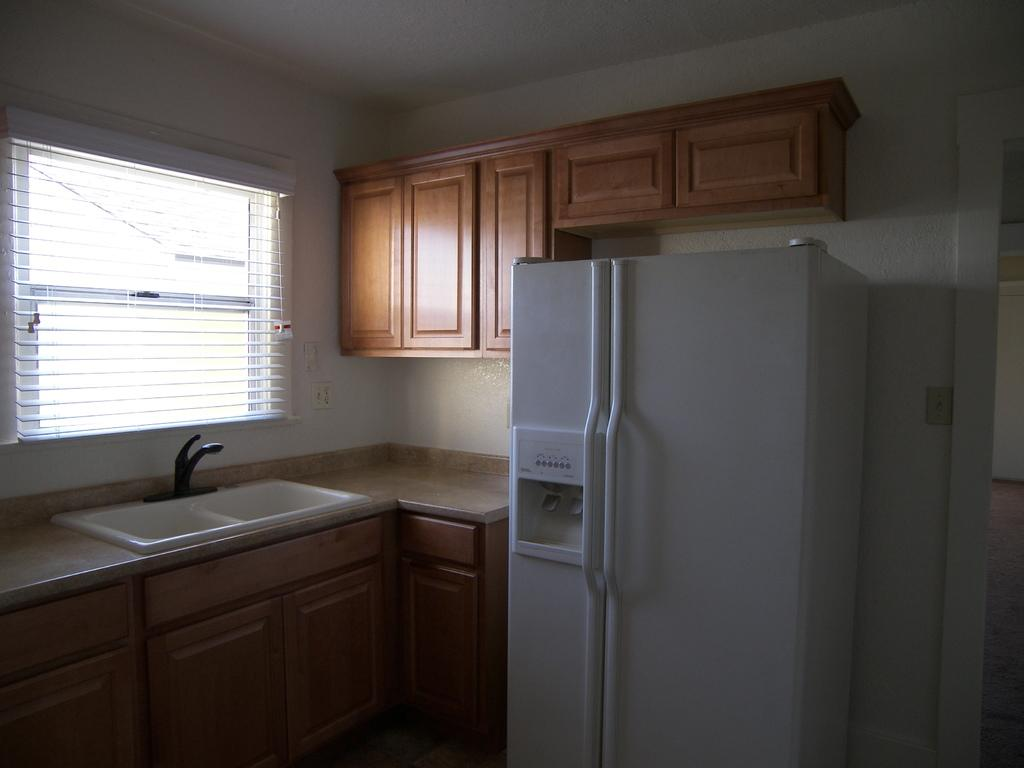cabinet_door: (166, 632, 284, 764), (8, 678, 141, 768), (290, 591, 380, 721), (407, 173, 475, 340), (404, 566, 478, 710), (343, 178, 399, 339), (668, 129, 814, 187), (490, 168, 534, 342), (556, 155, 670, 209)
handle: (572, 414, 606, 589), (604, 414, 634, 600)
